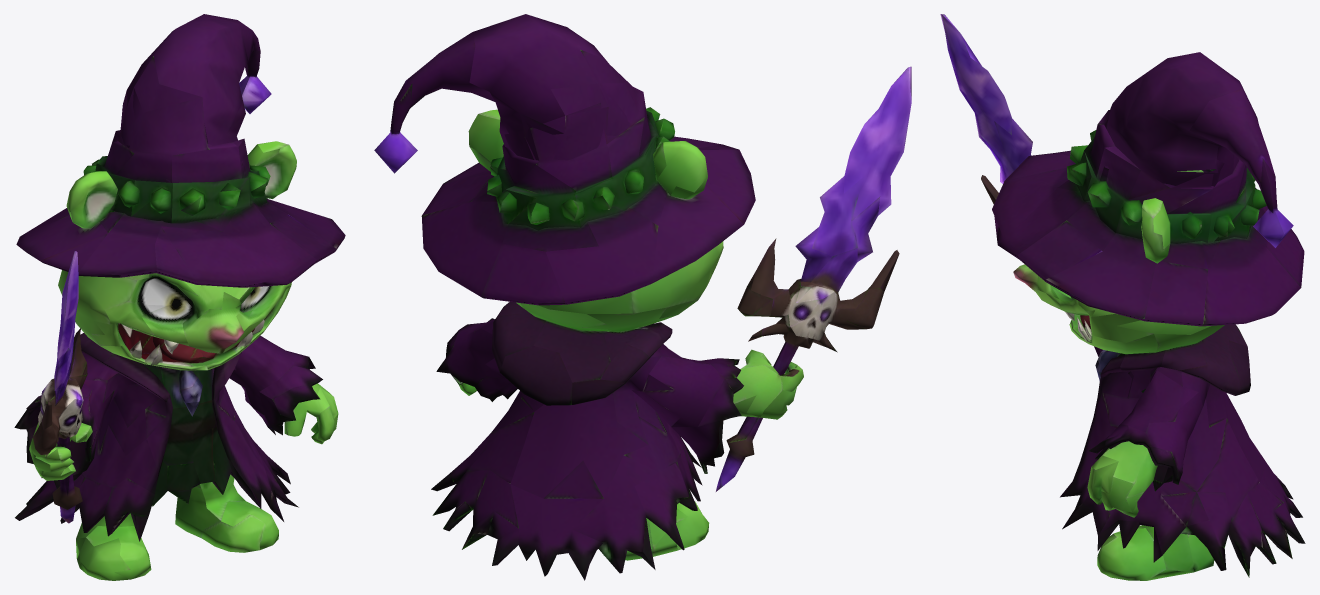
File: ping_g.glb
The picture shows the model from 3 angles, left to right: view 1: azimuth 30°, elevation 25°; view 2: azimuth 150°, elevation 25°; view 3: azimuth 270°, elevation 25°; orthographic projection. The views are drawn at different scales.
Parts seen in each view (by area): view 1: mesh_node; view 2: mesh_node; view 3: mesh_node.
Boxes of the visible parts, left/top/right/bottom form: mesh_node: left=14, top=14, right=345, bottom=580; mesh_node: left=374, top=14, right=911, bottom=580; mesh_node: left=940, top=14, right=1305, bottom=580.
Bounding box in the file's own units: 0.7773 × 1 × 0.666.
1 material, 1 textured.
